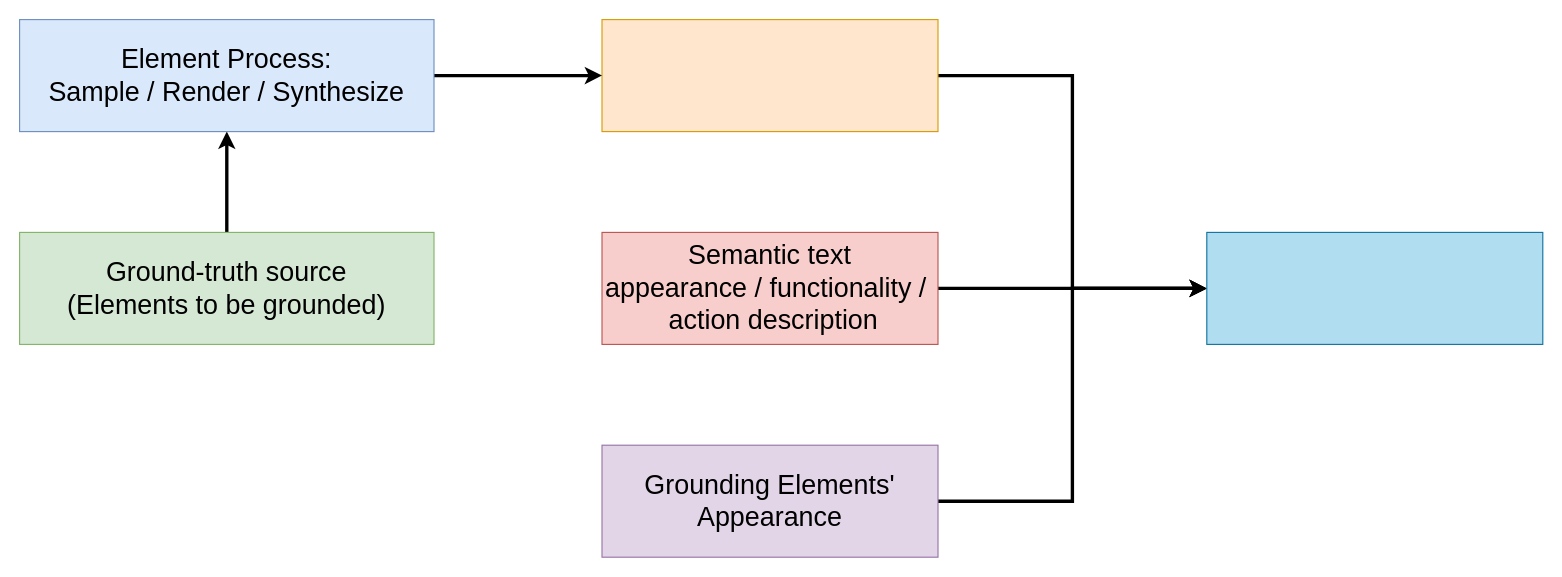
Some shapes in this 1562 by 577 pixel diagram are drawn without their labels. The shapes that lost their labels are listed below. From the top down, each one's centre as x and y in pixels, then its label:
[769,75]: Full Picture
[1374,287]: JEDI Entry (Conversation Form)
